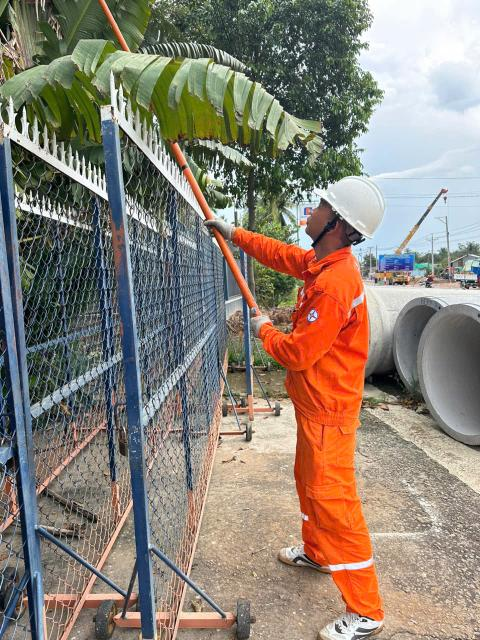gloves: (182, 204, 248, 240), (236, 303, 289, 342)
helmet: (301, 165, 391, 247)
shoes: (298, 594, 411, 640), (273, 525, 337, 582)
